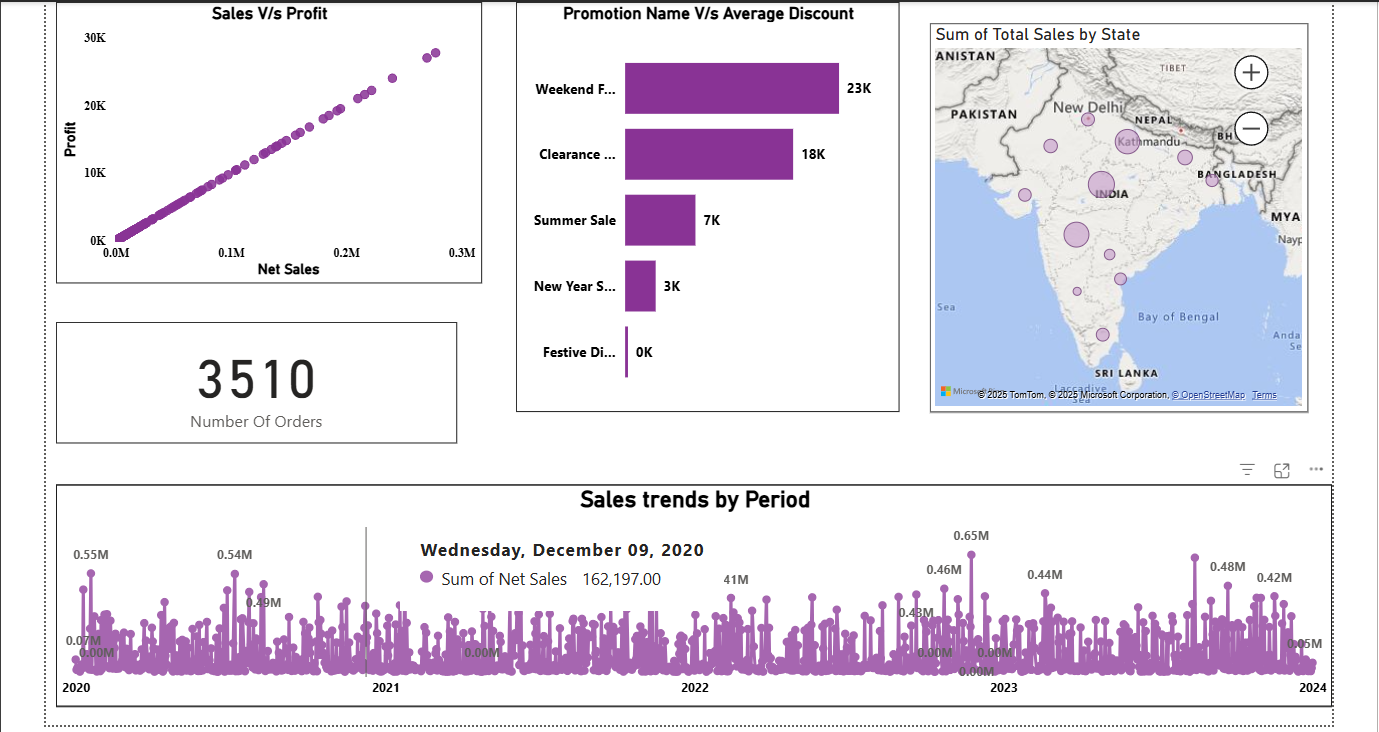

The dashboard page shown, as its layout file describes it:
{"tool":"powerbi","page":{"name":"Overview","canvas":[1280,720],"ordinal":1},"visuals":[{"type":"lineChart","title":"Sales trends by Period","fields":{"Y":["Sum(Fact Table.Net Sales)"],"Category":["Fact Table.Date (dd/mm/yyyy).Variation.Date Hierarchy.Year"]},"box":[9.4,480.1,1270.9,221.9],"z":0},{"type":"scatterChart","title":"Sales V/s Profit","fields":{"X":["Fact Table.Net Sales"],"Y":["Fact Table.Profit "]},"box":[9.6,0,424,279.9],"z":1000},{"type":"barChart","title":"Promotion Name V/s Average Discount","fields":{"Y":["Avg(Fact Table.Discount Value)"],"Category":["Dim Promotion.Promotion Name"]},"box":[467.7,0,381.9,408],"z":2000},{"type":"card","fields":{"Values":["CountNonNull(Fact Table.Index)"]},"box":[9.4,318.7,399.4,121],"z":3000},{"type":"map","fields":{"Category":["Dim Customers.State"],"Size":["Sum(Fact Table.Total Sales)"]},"box":[879.5,21.5,376.6,387.3],"z":4000}]}

Visuals, with their boxes in screenshot pixels (x1, y1, x2, y2):
"Sales trends by Period" lineChart: x1=53, y1=482, x2=1328, y2=704
"Sales V/s Profit" scatterChart: x1=53, y1=0, x2=478, y2=281
"Promotion Name V/s Average Discount" barChart: x1=512, y1=0, x2=896, y2=409
card - CountNonNull(Fact Table.Index): x1=53, y1=320, x2=453, y2=441
map - Dim Customers.State x Sum(Fact Table.Total Sales): x1=926, y1=22, x2=1303, y2=410
